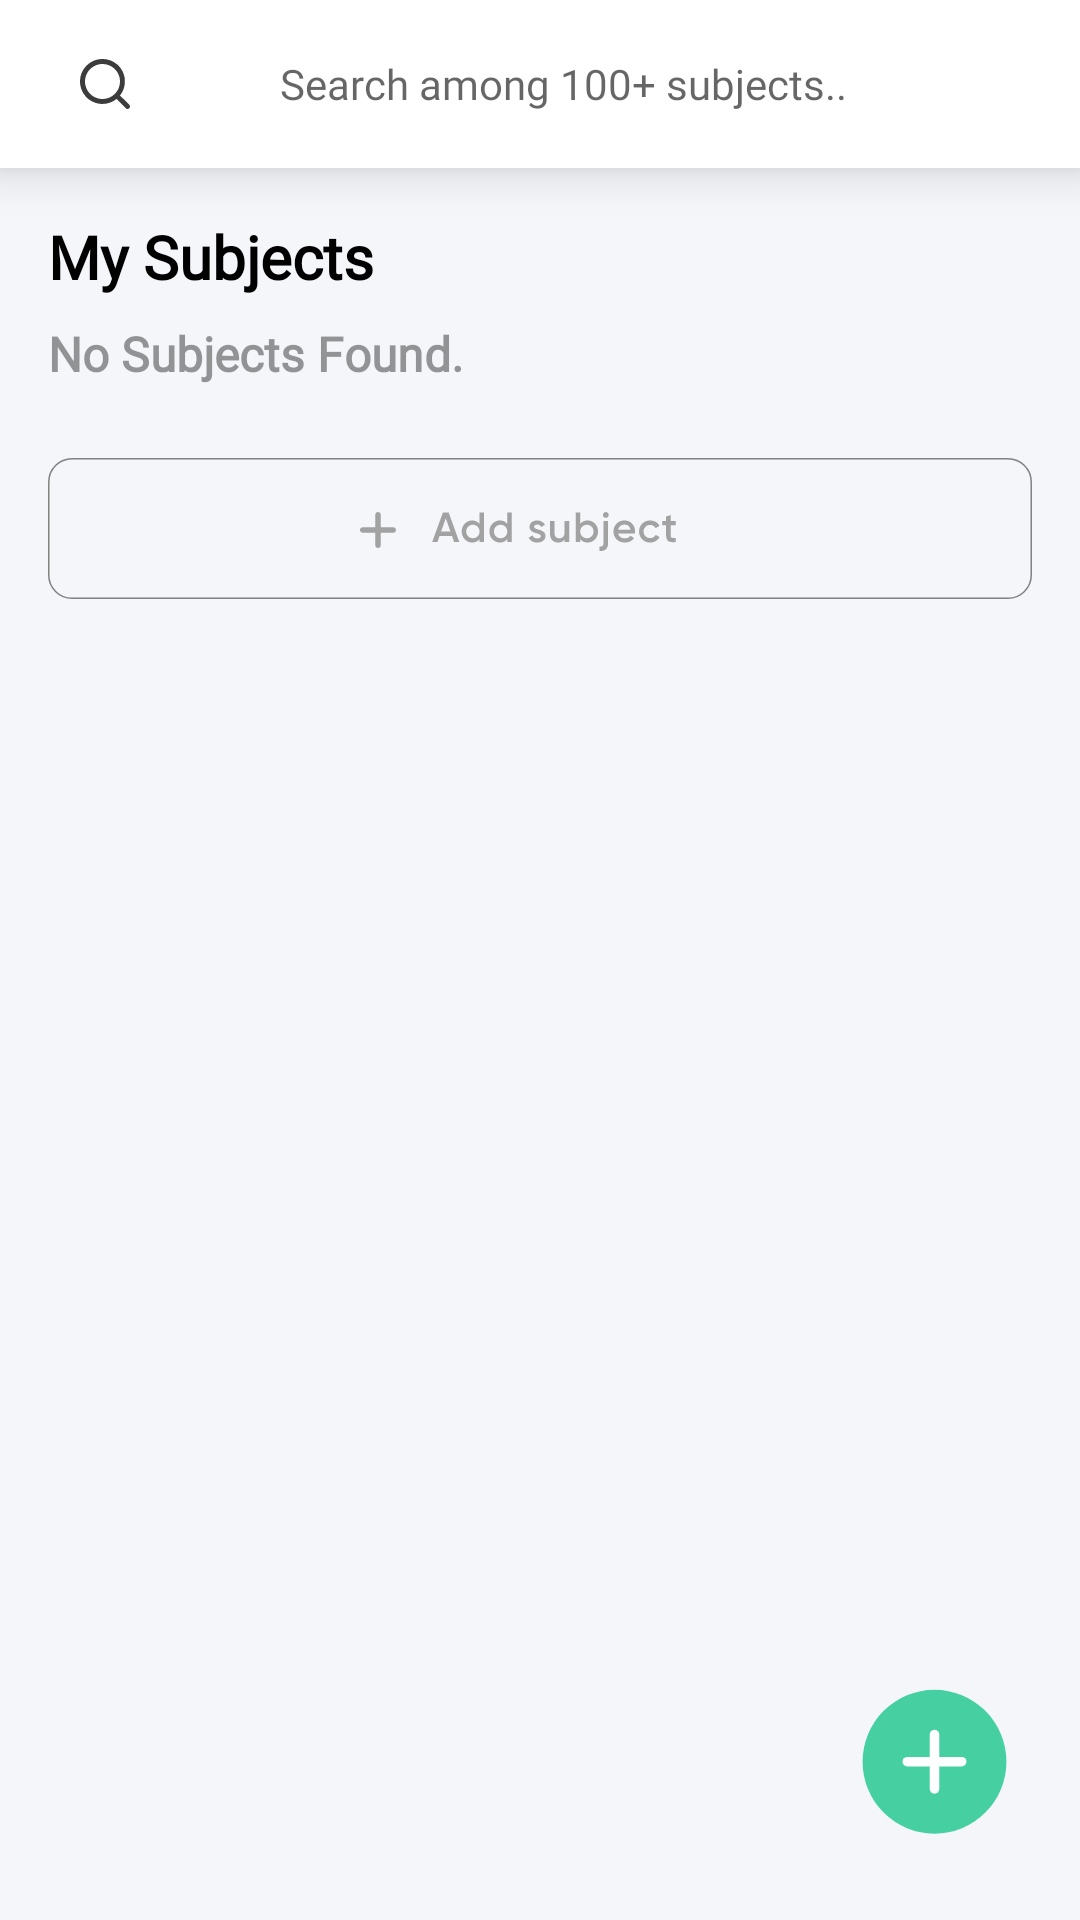

Icons on this 1080×1920 Android screen, each with its box as box(x1, y1, x2, y2):
fab: box(862, 1689, 1007, 1834)
search view: box(80, 59, 130, 109)
